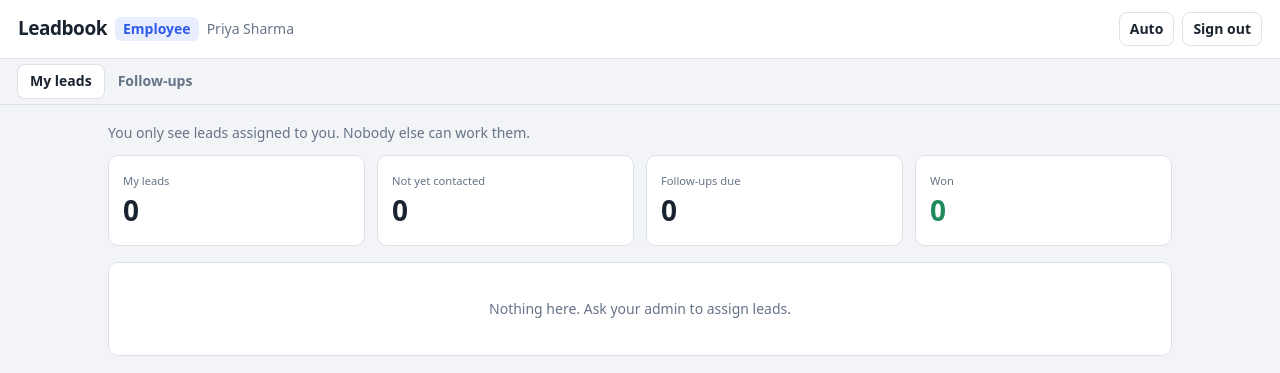
Test: shell (6.3) › signs out, calls the API, and returns to login
Click the button "Sign out" at point(1222, 29), box [1182,12,1262,46]
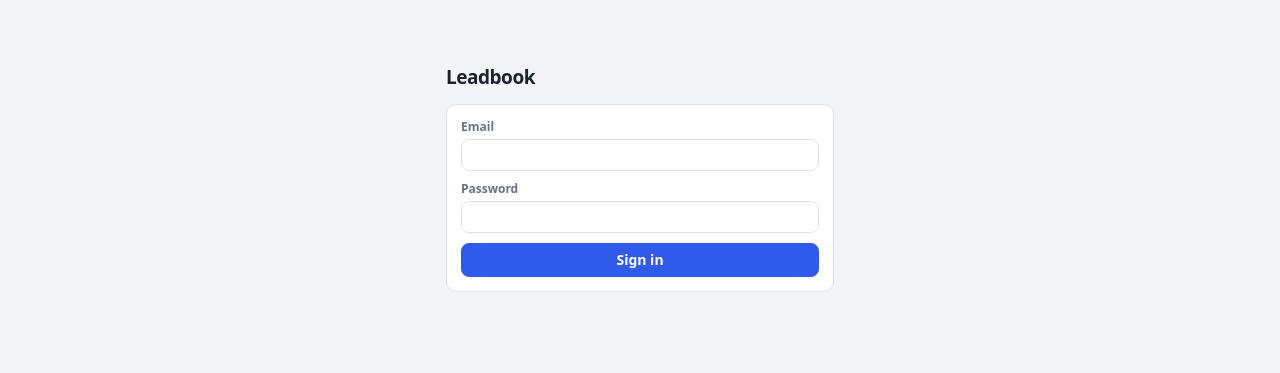
Check: the form "Sign in" is shown, box [461,118,819,277]
